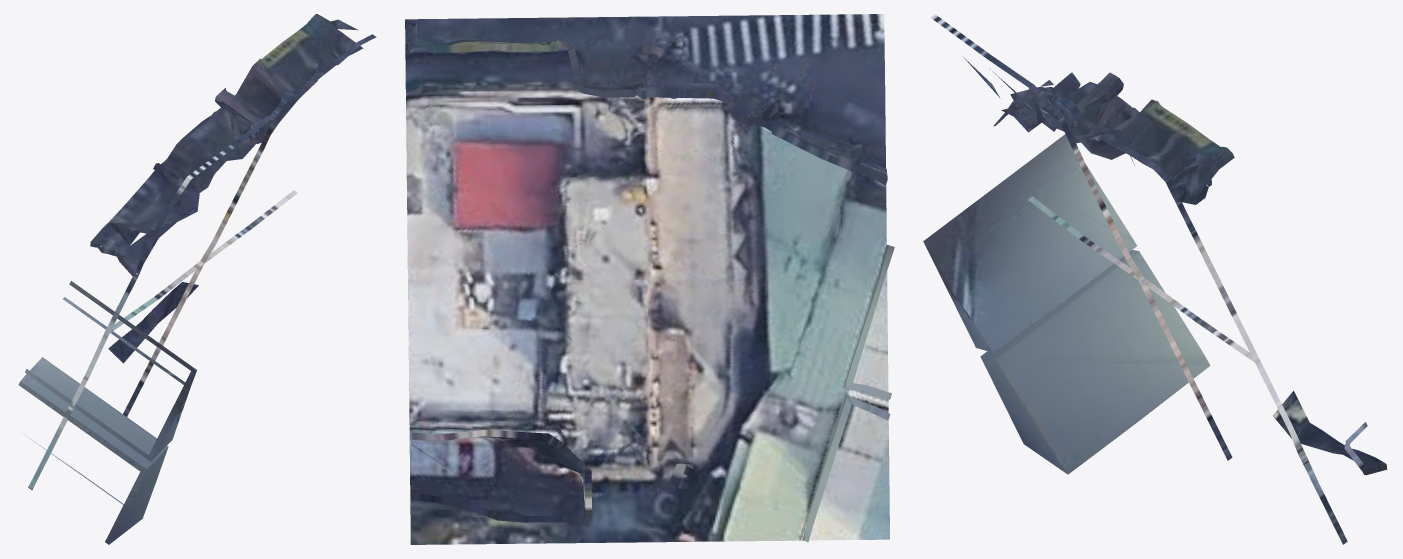
3 renders of one model, left to right at view 1: azimuth 30°, elevation 25°; view 2: azimuth 150°, elevation 25°; view 3: azimuth 270°, elevation 25°, orthographic. The views are drawn at different scales.
Size of the model in its own units: 38.86 by 39.29 by 35.63.
Materials: 2 (2 with a texture image).
